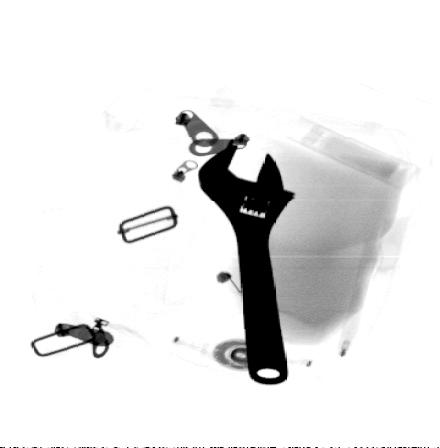Wrench: (195, 141, 300, 388)
